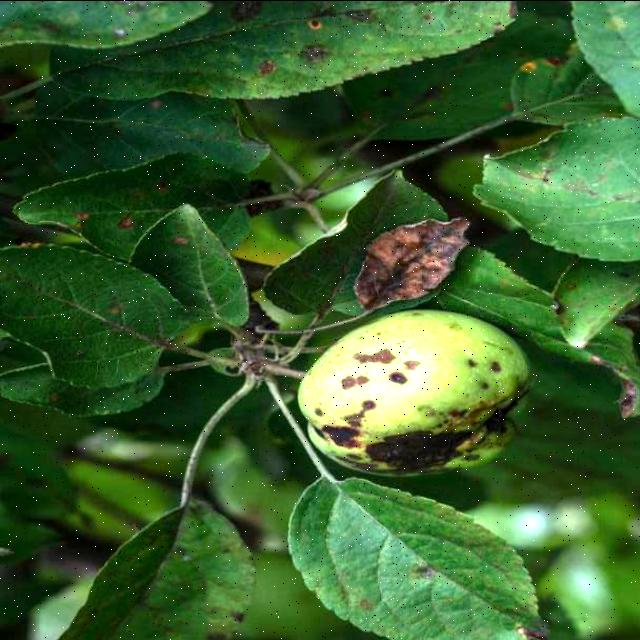SCAB: (274, 288, 534, 492)
